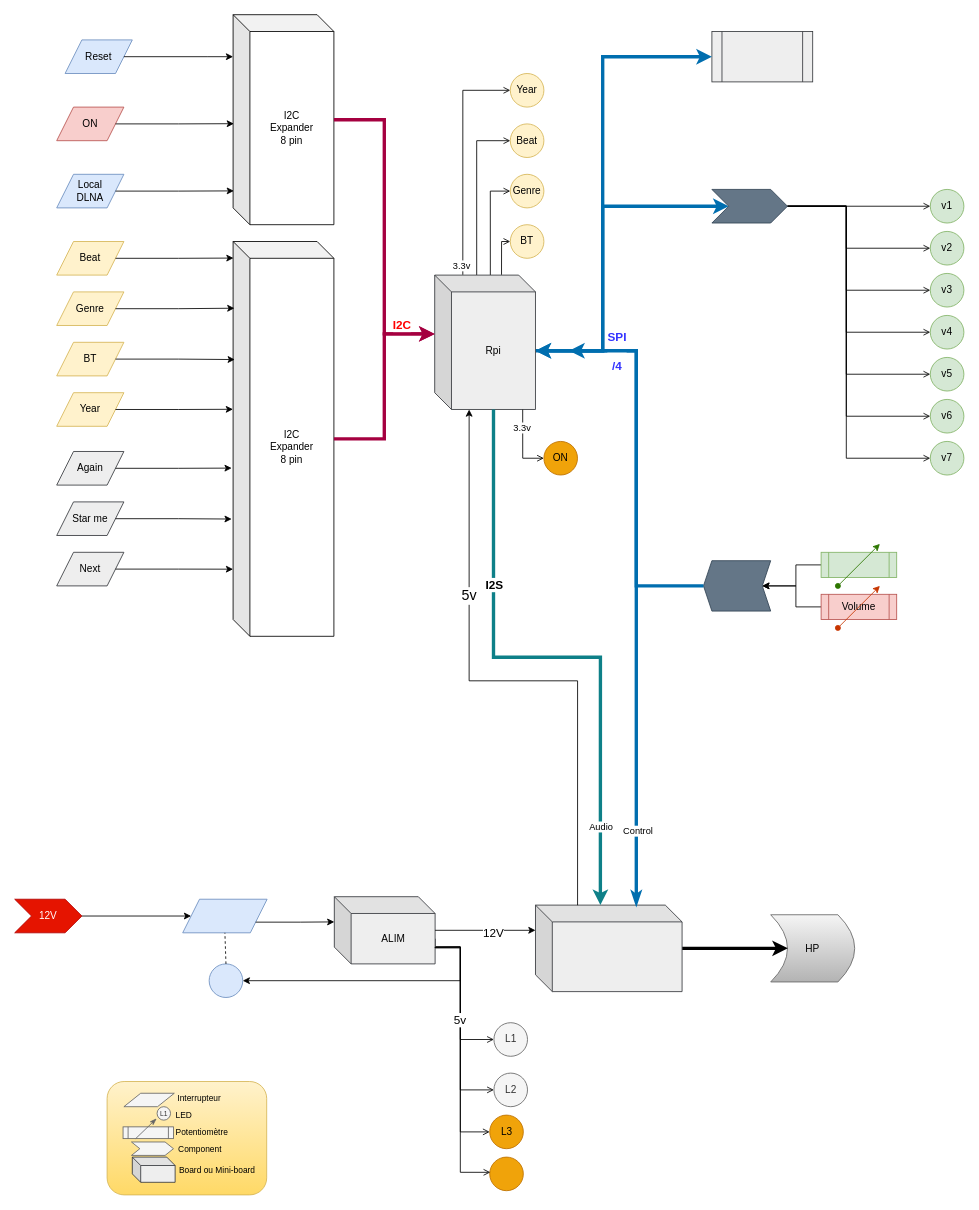
Some shapes in this 979 by 1210 pixel diagram are drawn without their labels. Each missing label, with the centre of its shape:
"74HC00" belongs at (152,1148).
"74HC595" belongs at (749,206).
"AMPLI" belongs at (608,948).
"ePaper" belongs at (762,56).
"L4" belongs at (506,1173).
"MCP3008" belongs at (737,585).
"PCB" belongs at (153,1169).
"Pot3" belongs at (147,1132).
"POW" belongs at (225,980).
"POWER" belongs at (224,915).
"SW1" belongs at (148,1099).
"Tuning" belongs at (858,564).
